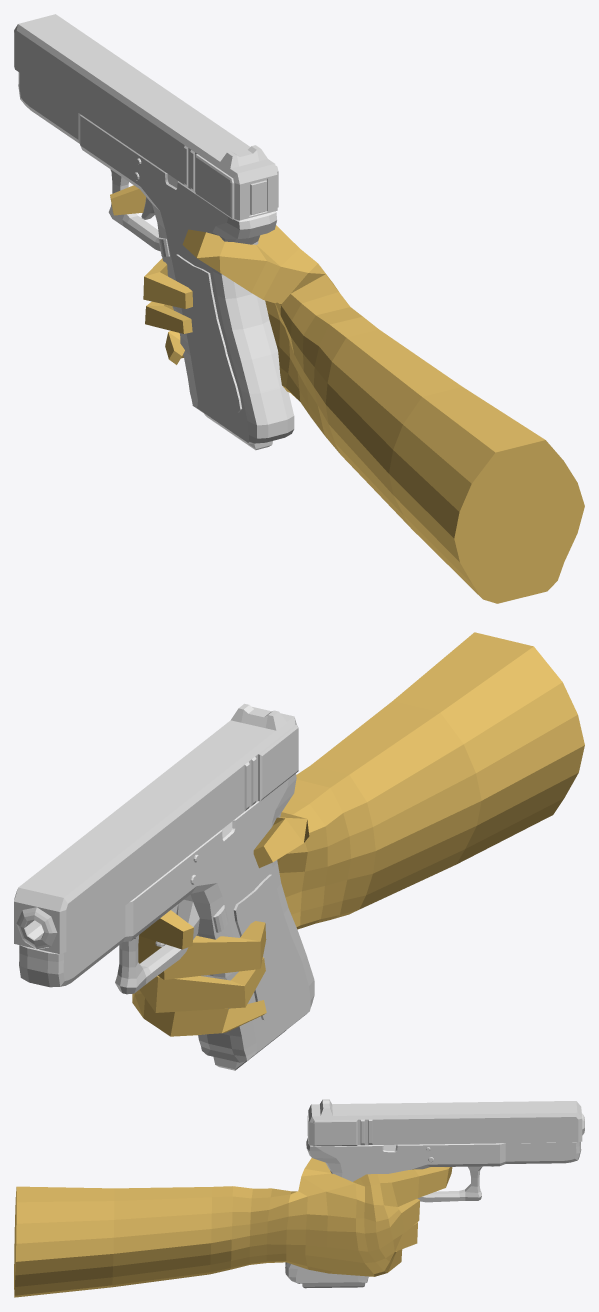
Rendered from mesh_HandWithGun_01.fbx.
3 renders of one model, top to bottom at view 1: azimuth 30°, elevation 25°; view 2: azimuth 150°, elevation 25°; view 3: azimuth 270°, elevation 25°, orthographic. The views are drawn at different scales.
Parts seen in each view (by area): view 1: Cube.009, Cube.022, Cube.021; view 2: Cube.009, Cube.021, Cube.022; view 3: Cube.009, Cube.021, Cube.022.
Part boxes in pixels (bbox=[...]): Cube.009: bbox=[110, 185, 584, 603]; Cube.022: bbox=[18, 72, 294, 450]; Cube.021: bbox=[14, 14, 278, 220]; Cube.009: bbox=[132, 632, 584, 1036]; Cube.021: bbox=[14, 703, 298, 954]; Cube.022: bbox=[19, 773, 314, 1070]; Cube.009: bbox=[14, 1158, 452, 1297]; Cube.021: bbox=[307, 1099, 584, 1146]; Cube.022: bbox=[285, 1138, 581, 1288].
Bounding box in the file's own units: 8.17 × 15.04 × 42.8.
